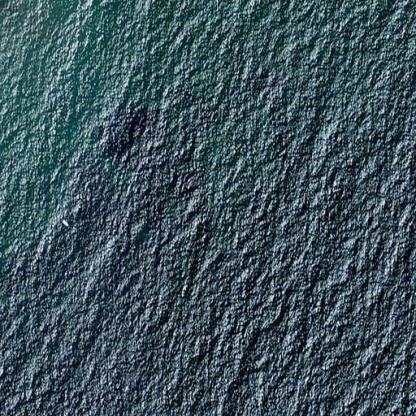ship: (57, 213, 74, 231)
